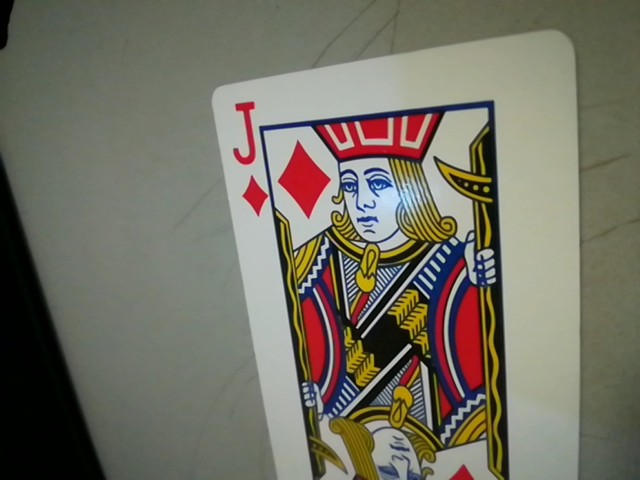fk j: (222, 92, 272, 221)
